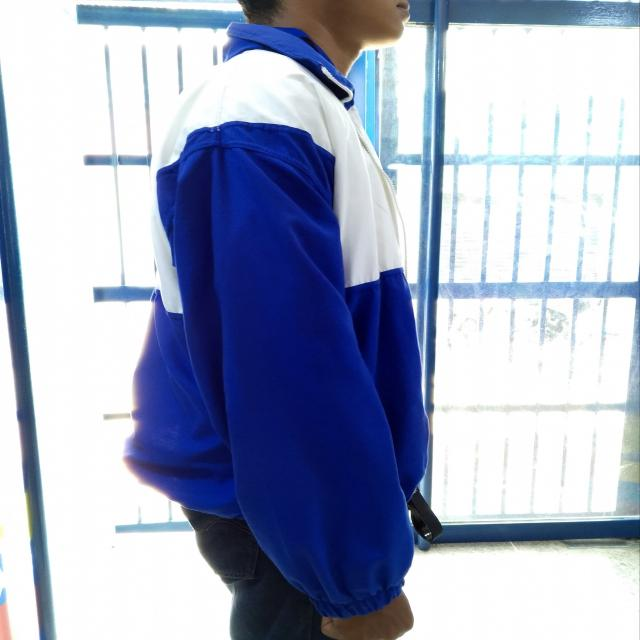chaqueta_unefa: (121, 21, 434, 619)
